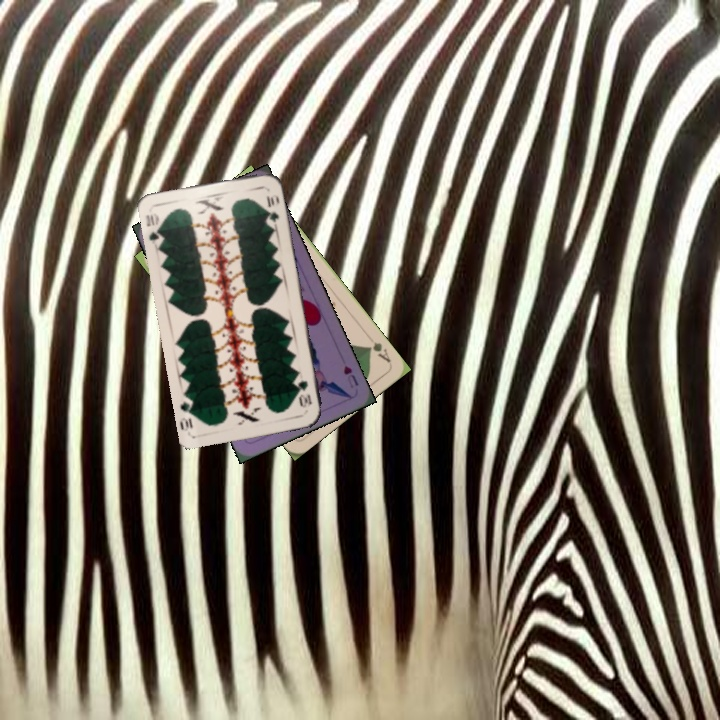G10: (142, 209, 166, 247), (294, 376, 314, 410)
GA: (364, 338, 393, 365)
HU: (339, 361, 361, 391)
